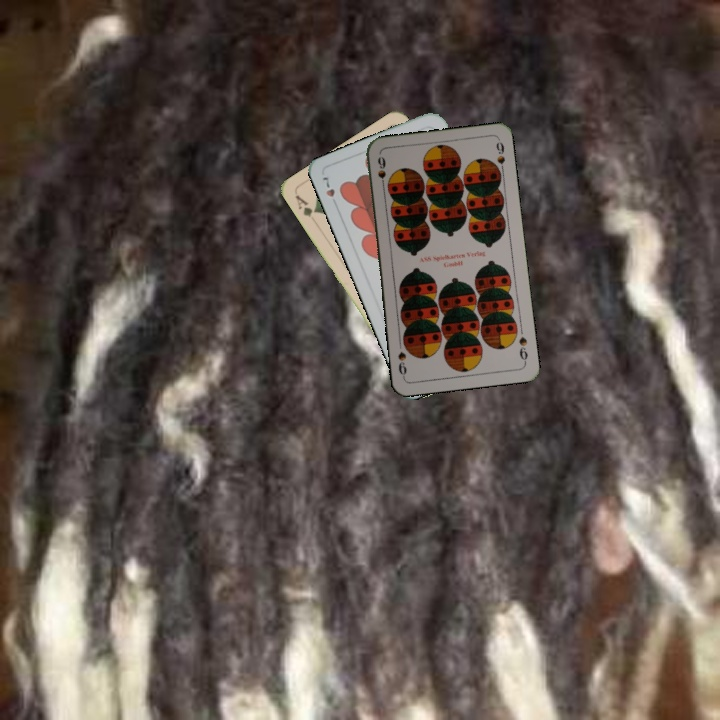GA: (291, 190, 319, 220)
H7: (318, 171, 337, 199)
S9: (373, 152, 388, 192), (515, 333, 530, 365)
